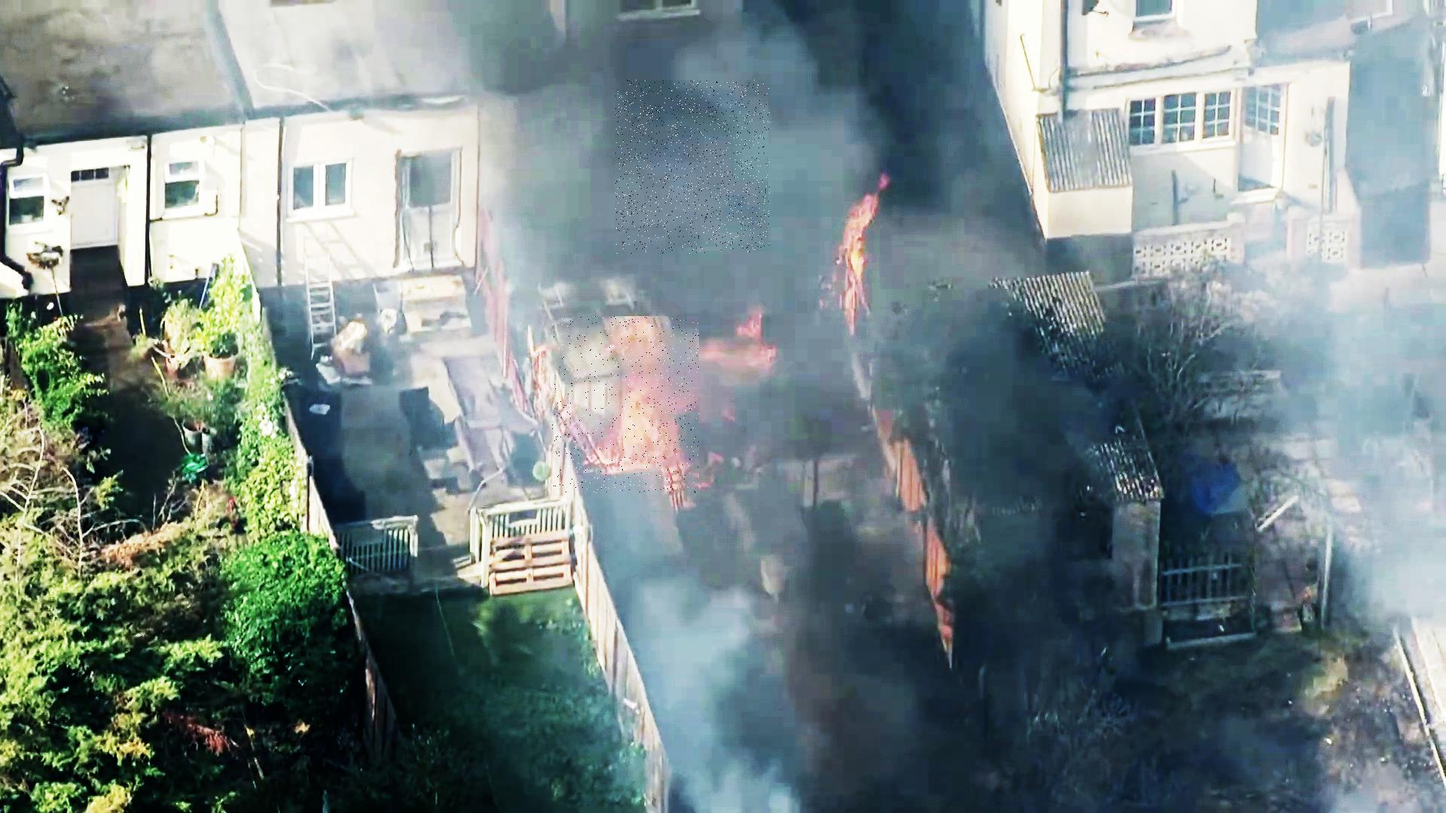fire: (552, 317, 699, 494)
smoke: (616, 80, 770, 254)
